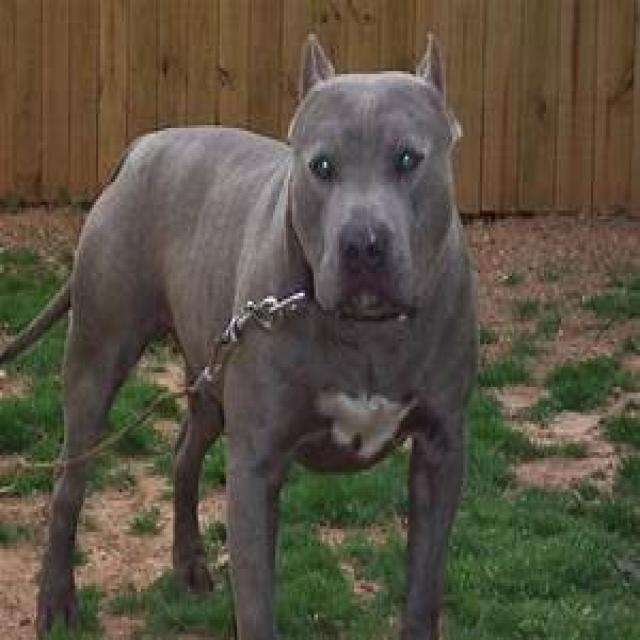dog: (38, 34, 480, 640)
